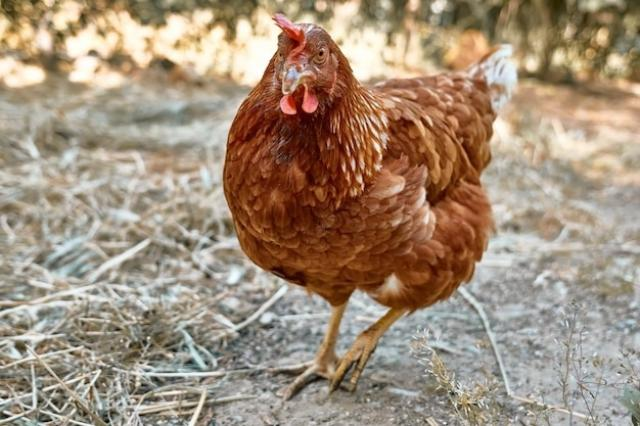Chicken: (224, 14, 519, 399)
